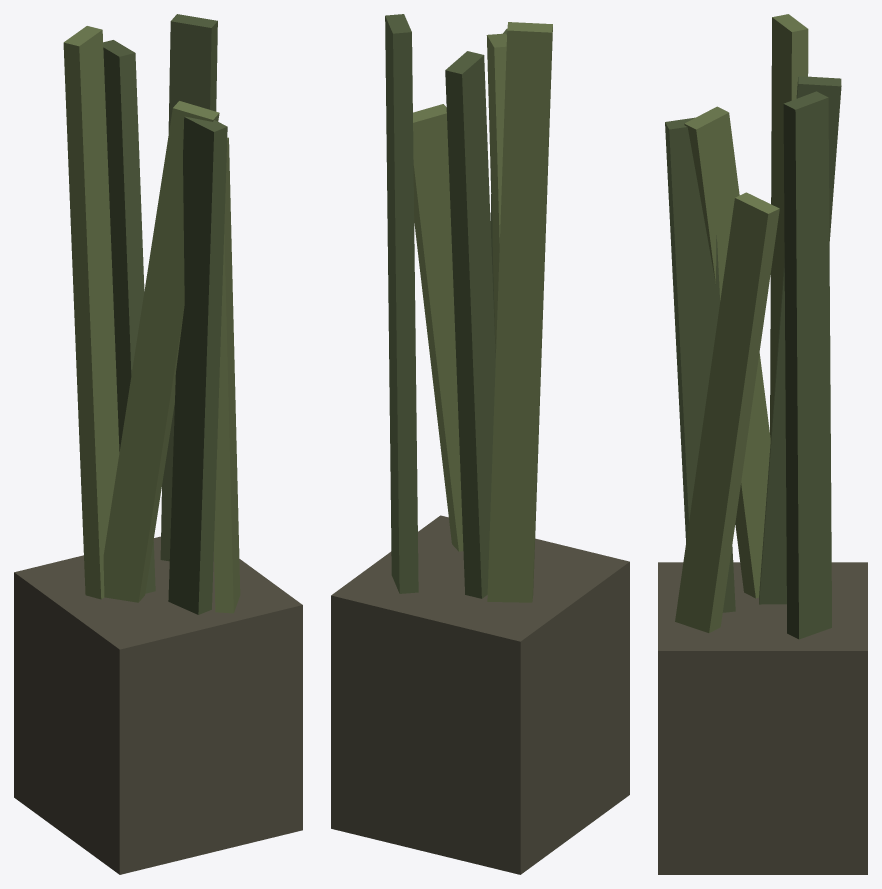
Rendered from snake.glb.
3 renders of one model, left to right at view 1: azimuth 30°, elevation 25°; view 2: azimuth 150°, elevation 25°; view 3: azimuth 270°, elevation 25°, orthographic. The views are drawn at different scales.
Visible parts, largest first — view 1: snake; view 2: snake; view 3: snake.
Part boxes in pixels (x1,y1,x2,y2): snake: [14, 14, 302, 874]; snake: [331, 14, 629, 874]; snake: [658, 14, 867, 874].
Size of the model in its own units: 0.34 by 1.39 by 0.34.
